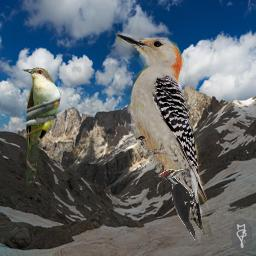Cuckoo: (22, 67, 62, 186)
Woodpecker: (114, 24, 215, 242), (158, 169, 195, 241)
